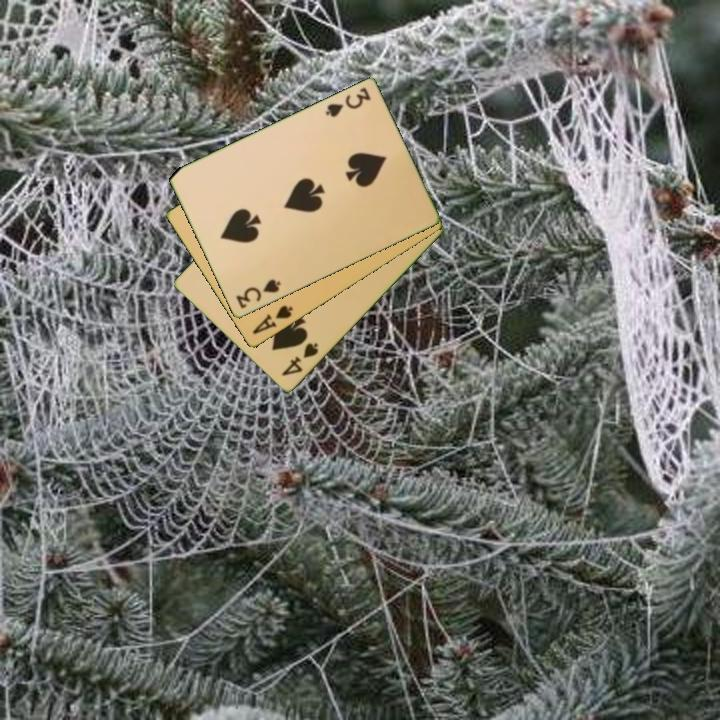3s: (322, 84, 373, 121), (232, 276, 283, 312)
4s: (278, 340, 322, 379)
As: (249, 302, 296, 338)
